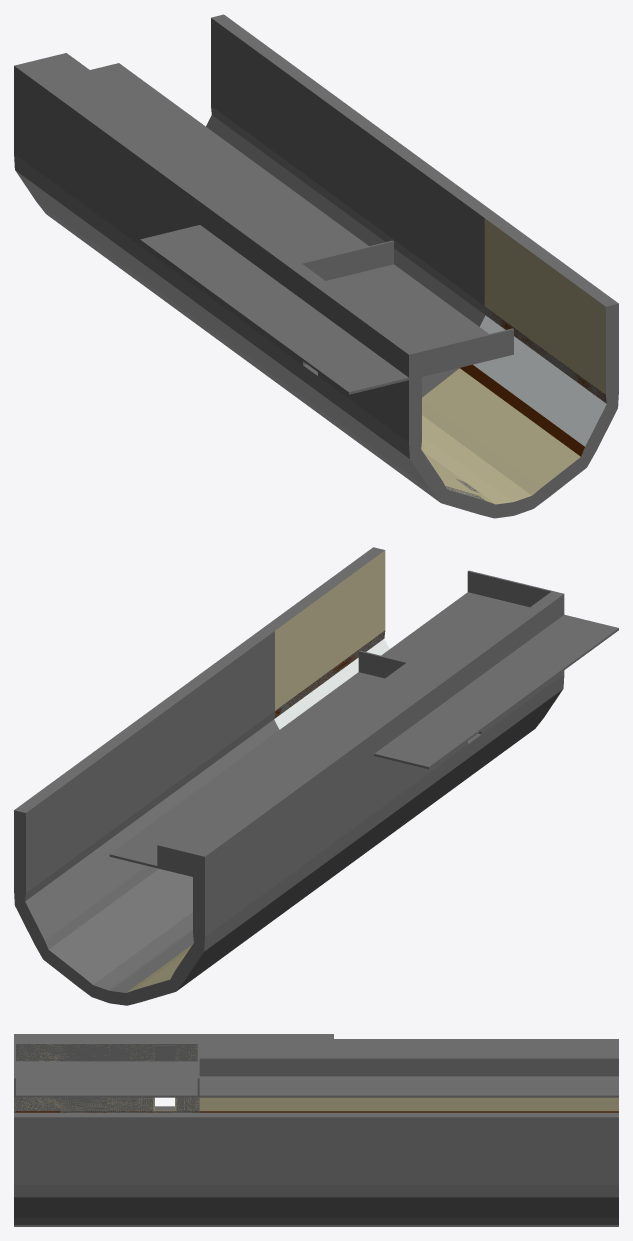
File: stationroof.fbx
3 views of the same model, one above another, from view 1: azimuth 30°, elevation 25°; view 2: azimuth 150°, elevation 25°; view 3: azimuth 270°, elevation 25° (orthographic). The views are drawn at different scales.
Parts seen in each view (by area): view 1: Plane; view 2: Plane; view 3: Plane.
Part boxes in pixels (x1,y1,x2,y2): Plane: [14, 14, 618, 518]; Plane: [14, 547, 618, 1005]; Plane: [14, 1034, 618, 1226].
Bounding box in the file's own units: 257 × 170 × 652.
